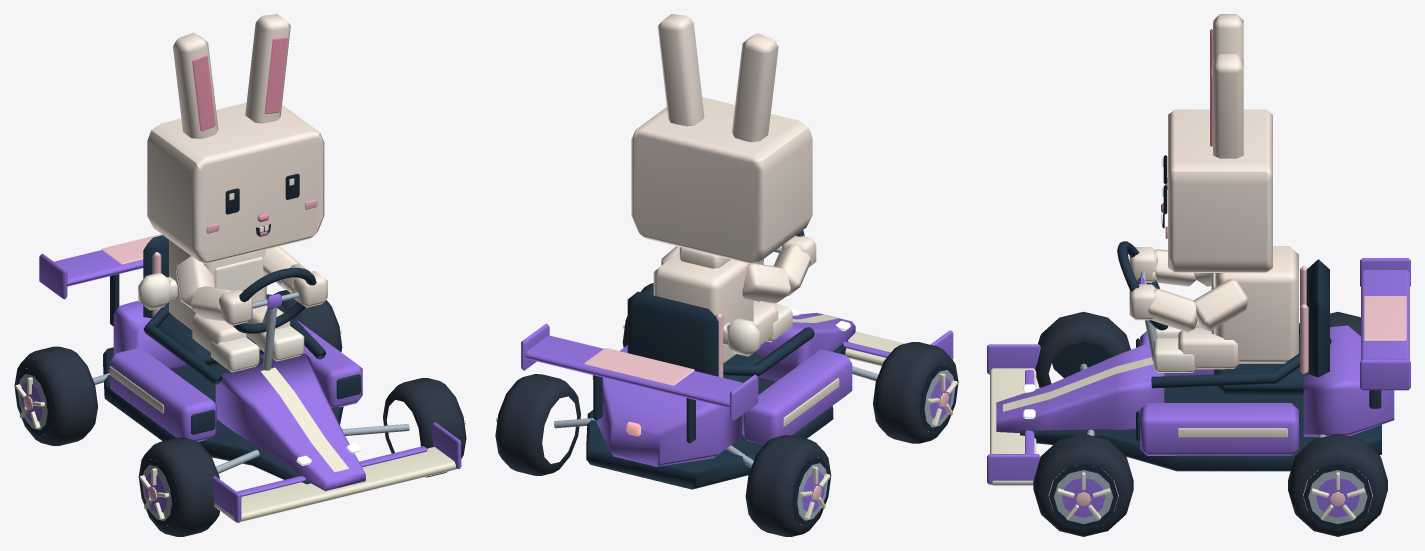
File: kart_sora_low.glb
3 views of the same model, side by side, from view 1: azimuth 30°, elevation 25°; view 2: azimuth 150°, elevation 25°; view 3: azimuth 270°, elevation 25° (orthographic). The views are drawn at different scales.
Parts seen in each view (by area): view 1: chassis, driver_pose, wheel_rl_spin, wheel_fl_spin, ear_r, ear_l, wheel_fr_spin, steering, wheel_rr_spin, tail, eyes; view 2: chassis, driver_pose, wheel_fl_spin, wheel_rl_spin, wheel_rr_spin, ear_r, ear_l, tail; view 3: chassis, driver_pose, wheel_fr_spin, wheel_rr_spin, wheel_fl_spin, ear_r, ear_l, steering.
Boxes of the visible parts, x1=… form: chassis: x1=39, y1=234, x2=461, y2=522; driver_pose: x1=147, y1=102, x2=327, y2=372; wheel_rl_spin: x1=14, y1=346, x2=97, y2=445; wheel_fl_spin: x1=138, y1=437, x2=219, y2=536; ear_r: x1=245, y1=14, x2=290, y2=123; ear_l: x1=173, y1=32, x2=218, y2=138; wheel_fr_spin: x1=383, y1=378, x2=466, y2=477; steering: x1=233, y1=267, x2=316, y2=333; wheel_rr_spin: x1=273, y1=290, x2=342, y2=351; tail: x1=138, y1=272, x2=177, y2=310; eyes: x1=225, y1=173, x2=299, y2=214; chassis: x1=521, y1=259, x2=953, y2=489; driver_pose: x1=631, y1=97, x2=816, y2=363; wheel_fl_spin: x1=873, y1=342, x2=958, y2=443; wheel_rl_spin: x1=745, y1=435, x2=831, y2=536; wheel_rr_spin: x1=495, y1=374, x2=580, y2=475; ear_r: x1=657, y1=14, x2=704, y2=126; ear_l: x1=732, y1=33, x2=778, y2=142; tail: x1=723, y1=318, x2=760, y2=356; chassis: x1=987, y1=258, x2=1410, y2=485; driver_pose: x1=1129, y1=109, x2=1298, y2=372; wheel_fr_spin: x1=1033, y1=433, x2=1133, y2=536; wheel_rr_spin: x1=1288, y1=433, x2=1387, y2=536; wheel_fl_spin: x1=1035, y1=311, x2=1130, y2=387; ear_r: x1=1210, y1=54, x2=1243, y2=158; ear_l: x1=1210, y1=14, x2=1243, y2=68; steering: x1=1117, y1=241, x2=1168, y2=330.
Size of what is drawn, in the model's own units: 1.46 by 1.95 by 1.73.
